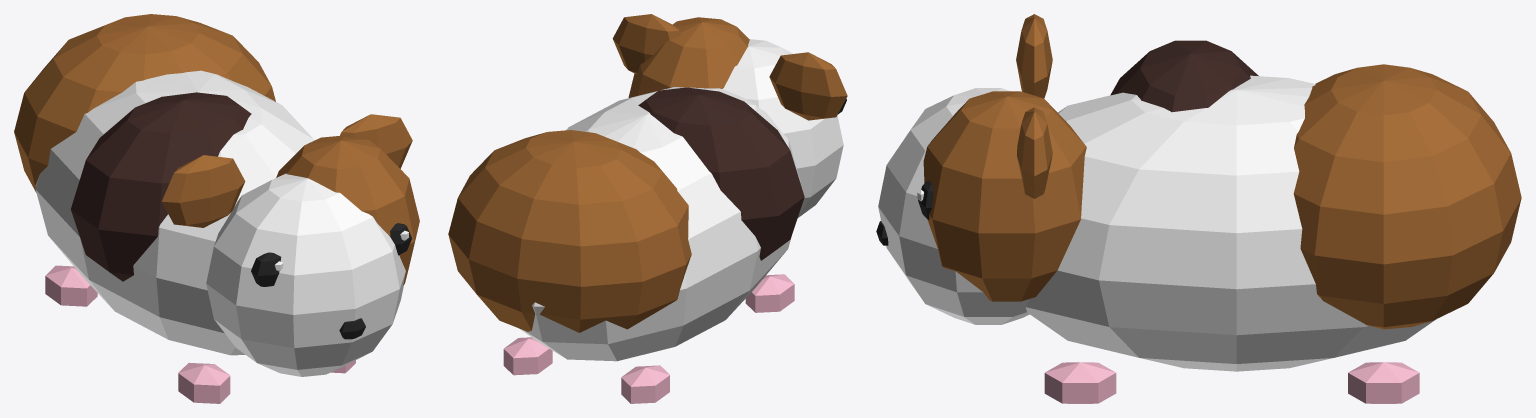
Rendered from marsvin.glb.
The picture shows the model from 3 angles, left to right: view 1: azimuth 30°, elevation 25°; view 2: azimuth 150°, elevation 25°; view 3: azimuth 270°, elevation 25°; orthographic projection. The views are drawn at different scales.
Visible parts, largest first — view 1: marsvin; view 2: marsvin; view 3: marsvin.
Boxes of the visible parts, bbox=[...] form: marsvin: bbox=[14, 14, 419, 403]; marsvin: bbox=[448, 14, 847, 403]; marsvin: bbox=[876, 14, 1521, 403].
Size of the model in its own units: 0.3846 by 0.365 by 0.702.
